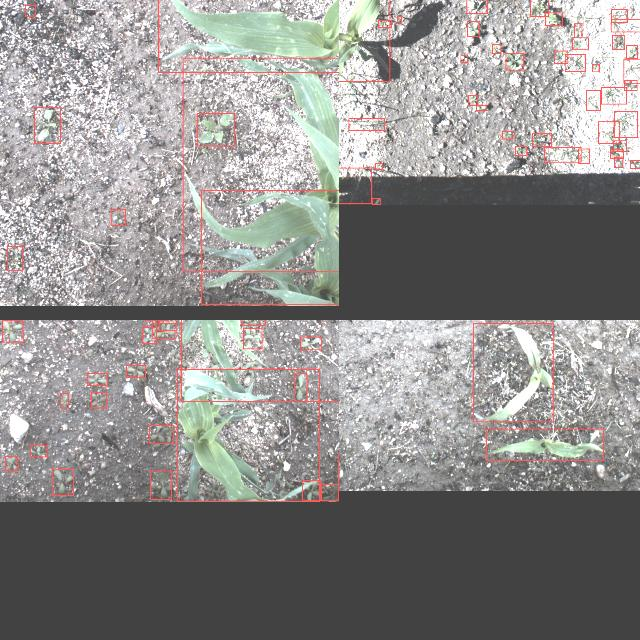crop: (183, 57, 339, 271), (177, 369, 319, 501), (202, 190, 339, 304), (180, 320, 339, 401), (159, 0, 339, 71), (473, 322, 553, 422), (339, 0, 390, 81), (486, 428, 604, 459)
weed: (198, 112, 235, 146), (339, 167, 371, 203), (34, 107, 60, 143), (150, 470, 172, 500), (614, 111, 638, 137), (544, 146, 582, 162), (52, 469, 74, 495), (598, 121, 620, 143), (349, 118, 385, 130), (602, 86, 626, 104), (149, 425, 173, 443), (3, 321, 23, 342), (623, 58, 640, 82), (611, 18, 640, 31), (152, 322, 175, 338), (244, 328, 262, 348), (302, 480, 320, 500), (8, 246, 22, 270), (294, 373, 306, 401), (506, 52, 524, 70), (565, 54, 585, 70), (530, 0, 548, 16), (321, 484, 339, 500), (300, 336, 322, 349), (532, 132, 552, 146), (587, 90, 601, 110), (467, 0, 487, 13), (87, 373, 107, 385), (126, 365, 146, 377), (111, 209, 125, 225), (546, 12, 562, 26), (611, 8, 627, 22), (92, 392, 106, 408), (142, 327, 156, 343), (30, 445, 48, 457), (554, 50, 568, 64), (467, 20, 479, 36), (578, 148, 590, 164), (5, 456, 18, 470), (626, 44, 638, 58), (613, 140, 627, 152), (612, 35, 624, 49), (572, 38, 588, 48), (160, 320, 176, 330), (60, 392, 68, 408), (25, 4, 35, 16), (515, 145, 527, 155), (624, 80, 636, 90), (574, 23, 582, 37), (610, 150, 624, 158), (492, 43, 502, 53), (468, 95, 478, 105), (378, 19, 392, 26), (614, 156, 622, 168), (629, 160, 640, 168), (502, 131, 512, 139), (592, 64, 600, 72), (460, 54, 468, 62), (476, 104, 486, 110), (373, 198, 381, 204), (396, 16, 402, 22), (376, 163, 382, 169)
